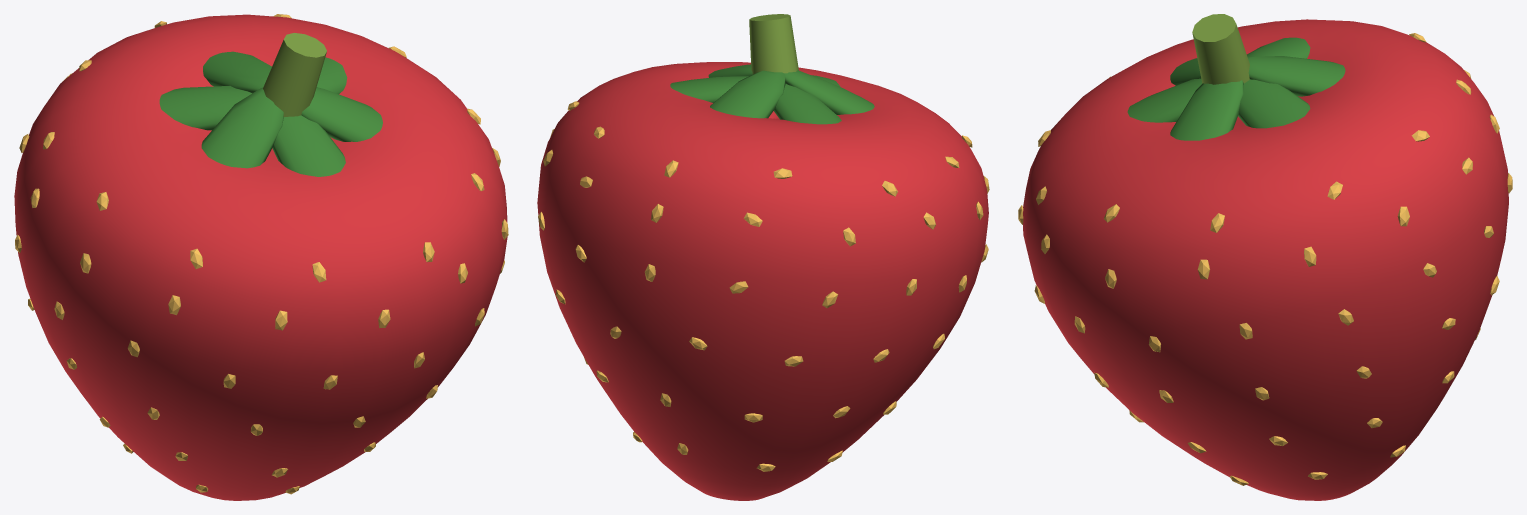
The model's file is strawberry.glb.
The picture shows the model from 3 angles, left to right: view 1: azimuth 30°, elevation 25°; view 2: azimuth 150°, elevation 25°; view 3: azimuth 270°, elevation 25°; orthographic projection. The views are drawn at different scales.
Parts seen in each view (by area): view 1: strawberry; view 2: strawberry; view 3: strawberry.
Boxes of the visible parts, x1,y1,x2,y2 form: strawberry: (14, 14, 508, 500); strawberry: (537, 14, 989, 500); strawberry: (1018, 14, 1512, 500).
Bounding box in the file's own units: 0.8943 × 0.9625 × 0.9009.
